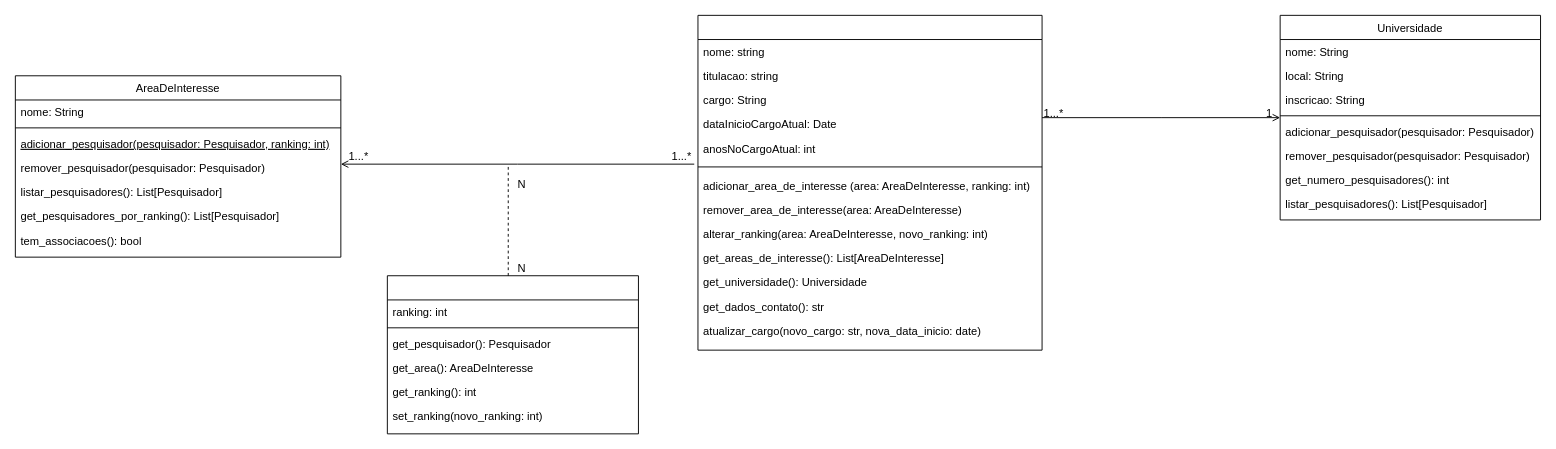
This 1556x449 diagram has some shape labels left out. Here are the shapes that lost their labels. From the top down, the box of each, then its label:
(697, 14, 1042, 350): Pesquisador
(386, 275, 638, 434): InteressePesquisador
